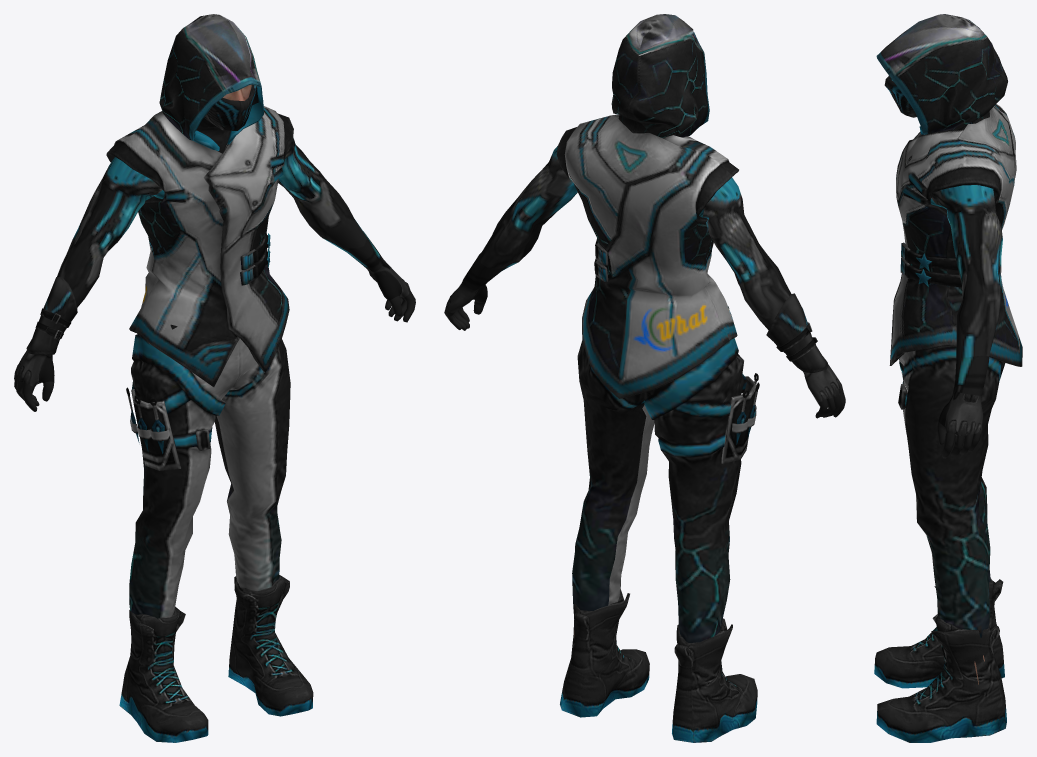
The model's file is blue_phoenix.glb.
3 renders of one model, left to right at view 1: azimuth 30°, elevation 25°; view 2: azimuth 150°, elevation 25°; view 3: azimuth 270°, elevation 25°, orthographic.
Visible parts, largest first — view 1: Object_2; view 2: Object_2; view 3: Object_2.
Boxes of the visible parts, x1=… form: Object_2: x1=14, y1=14, x2=415, y2=742; Object_2: x1=444, y1=14, x2=845, y2=742; Object_2: x1=874, y1=14, x2=1022, y2=742.
Size of the model in its own units: 1.11 by 1.86 by 0.363.
Materials: 1 (1 with a texture image).
